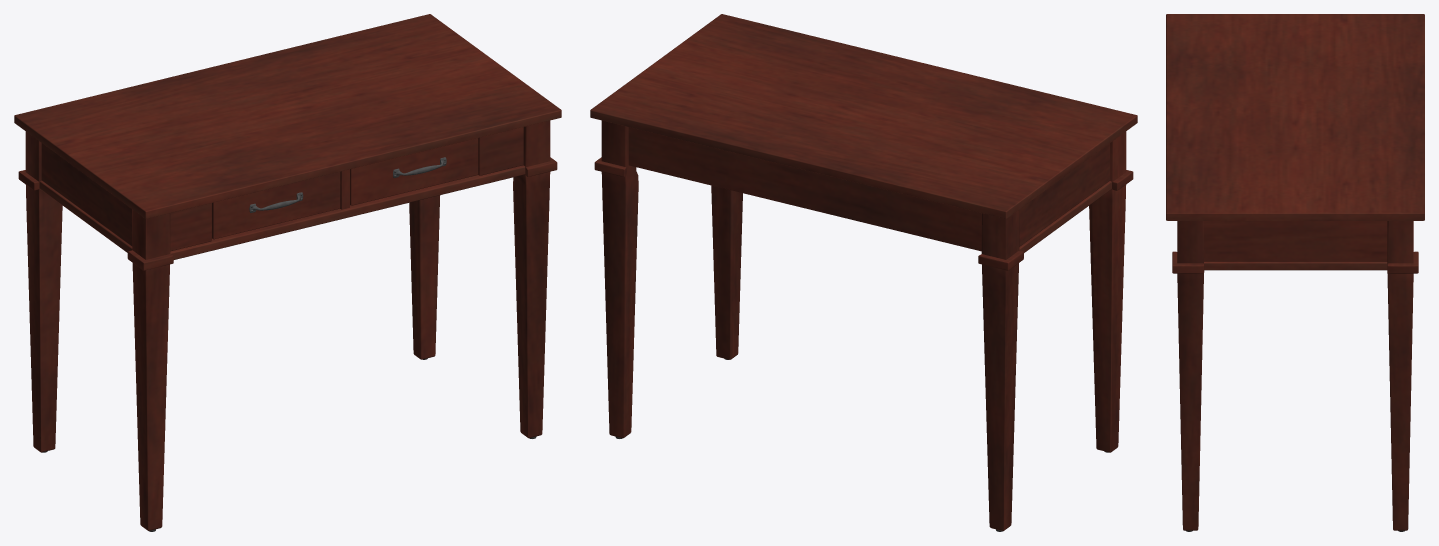
3 renders of one model, left to right at view 1: azimuth 30°, elevation 25°; view 2: azimuth 150°, elevation 25°; view 3: azimuth 270°, elevation 25°, orthographic.
Parts seen in each view (by area): view 1: visual_RootNode; view 2: visual_RootNode; view 3: visual_RootNode.
Boxes of the visible parts, left/top/right/bottom form: visual_RootNode: left=14, top=14, right=561, bottom=531; visual_RootNode: left=590, top=14, right=1137, bottom=531; visual_RootNode: left=1166, top=14, right=1424, bottom=531.
Size of the model in its own units: 1 by 0.5485 by 0.7622.
1 material, 1 textured.
